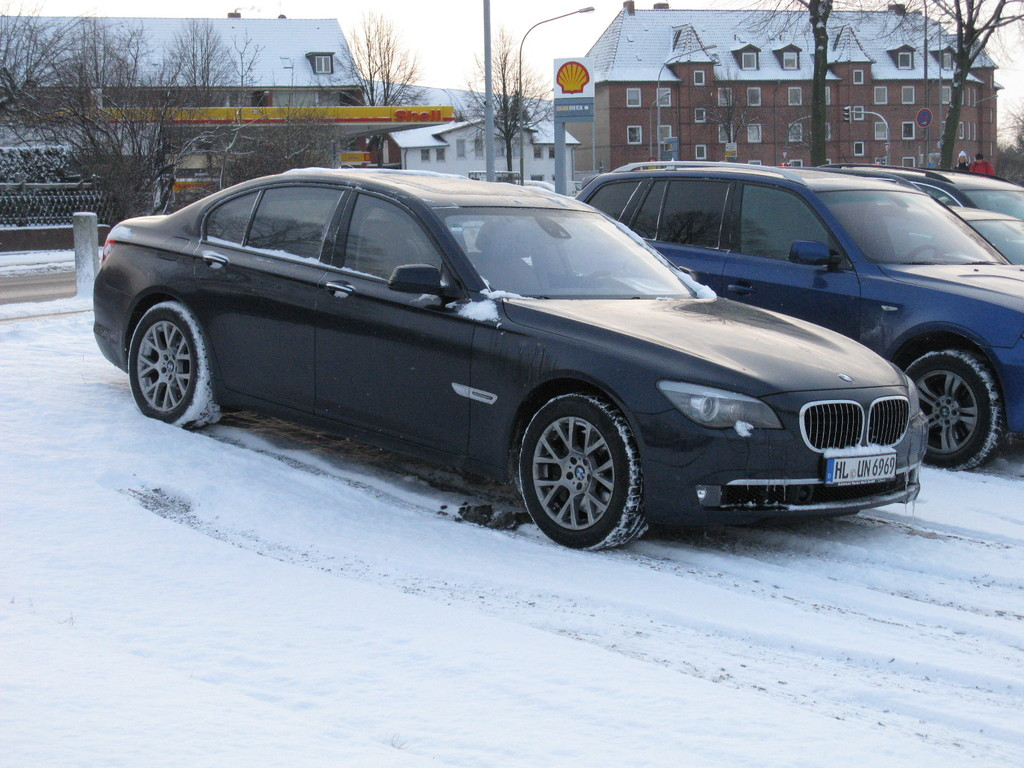mobil: (86, 166, 939, 560)
